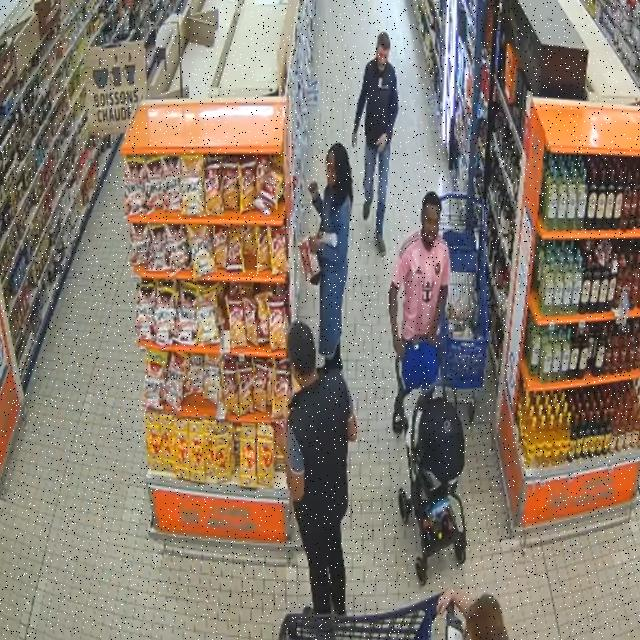article: (299, 233, 322, 283), (314, 232, 338, 247)
hands: (274, 423, 288, 452), (437, 590, 453, 615), (393, 335, 405, 359), (427, 324, 438, 345), (309, 236, 322, 253), (377, 134, 388, 153), (309, 181, 319, 200), (352, 131, 357, 148)
person: (276, 321, 357, 615), (389, 192, 450, 388), (352, 32, 398, 255), (310, 143, 352, 371), (437, 590, 508, 639)
